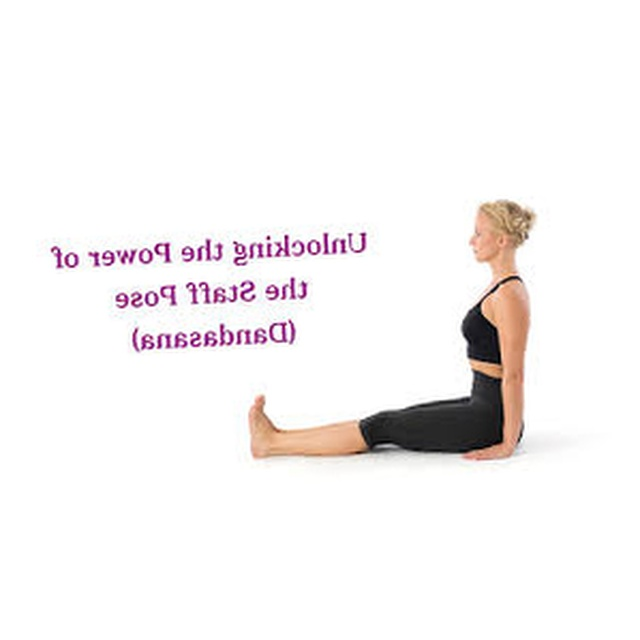Staff_Pose: (249, 201, 539, 461)
